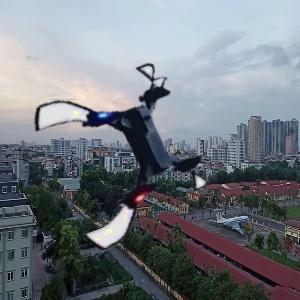drone: (42, 77, 205, 240)
